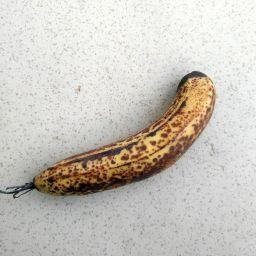banana: (0, 68, 220, 200)
